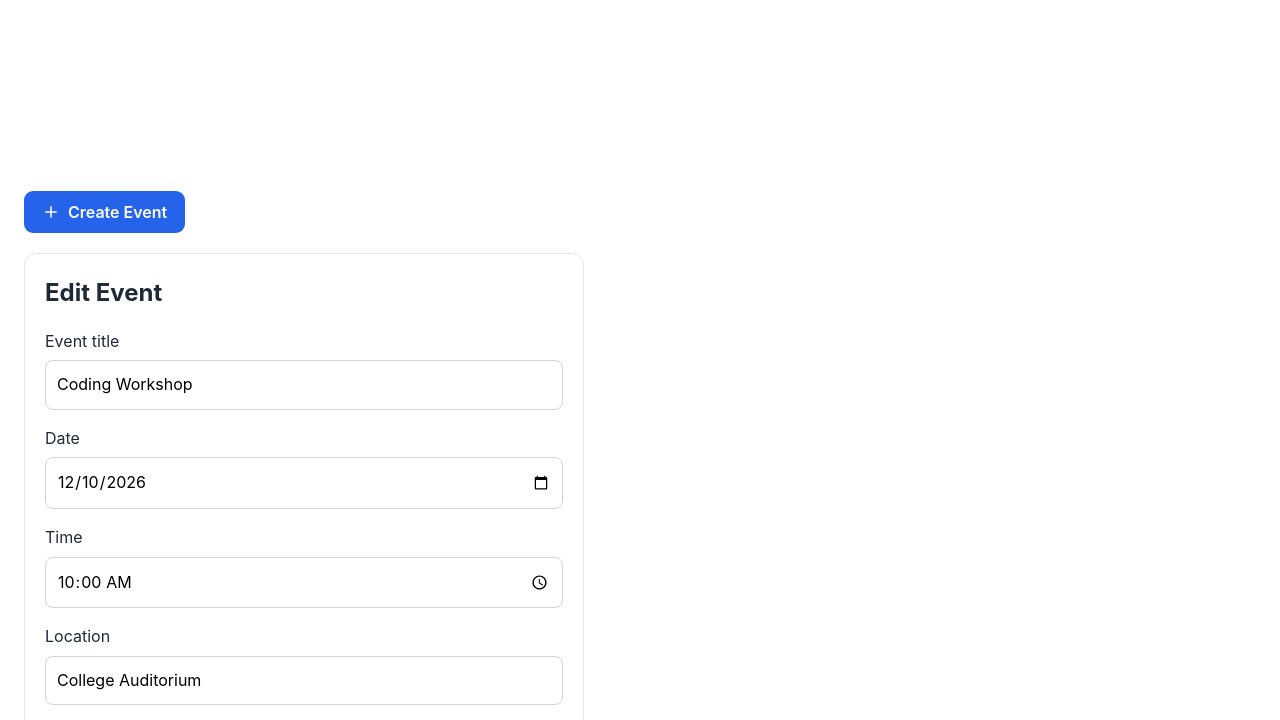
Test case: Events Page › updates an event owned by the current user
Earlier steps of the test are not shown.
Replace the text in the field labelled "Event title" with "Updated Workshop" at coordinates (304, 385), box left=45, top=360, right=563, bottom=410
(page scrolled)
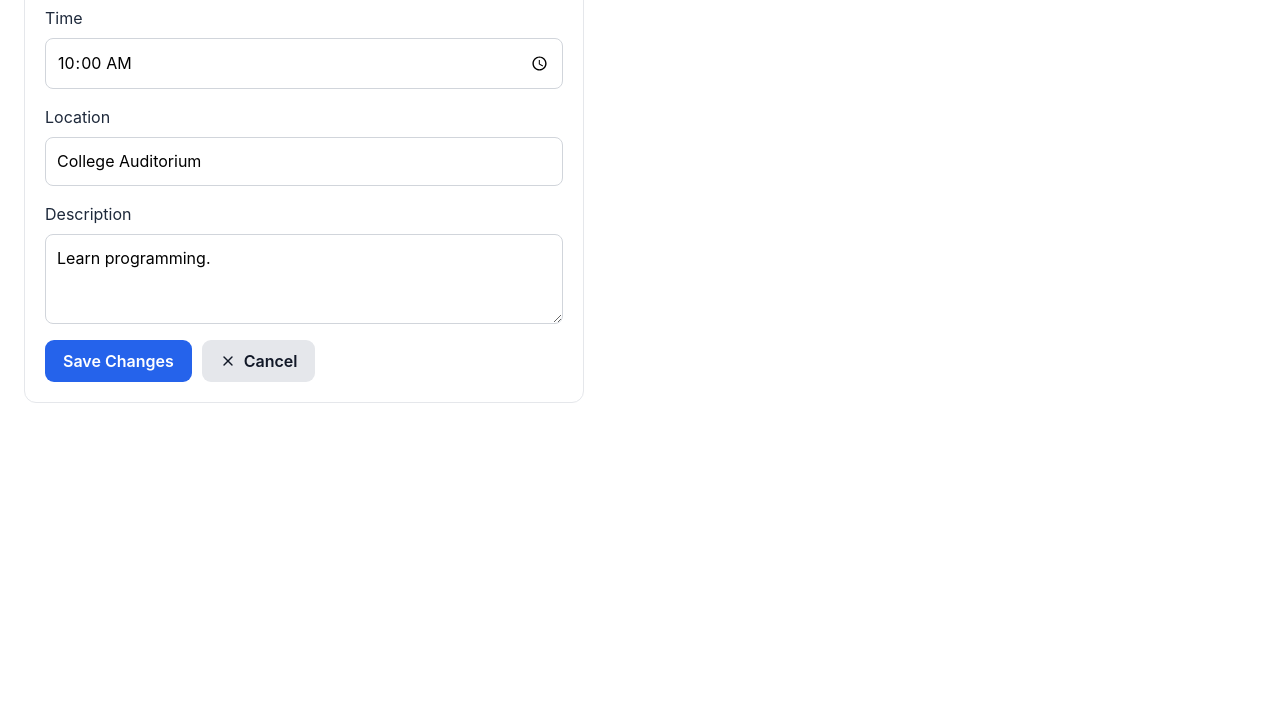
Click the button "Save Changes" at coordinates (118, 361), box left=45, top=340, right=192, bottom=382
(page scrolled)
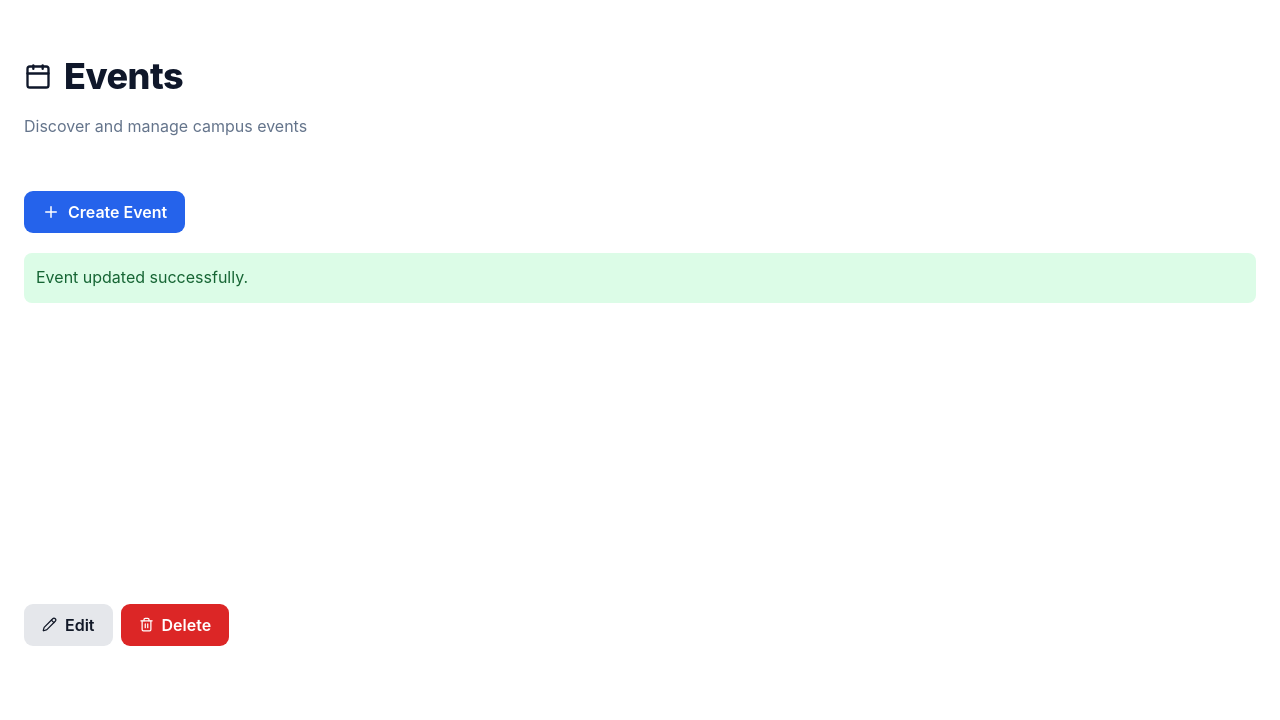
Expected: the message reads "Event updated successfully.", left=36, top=267, right=248, bottom=287
